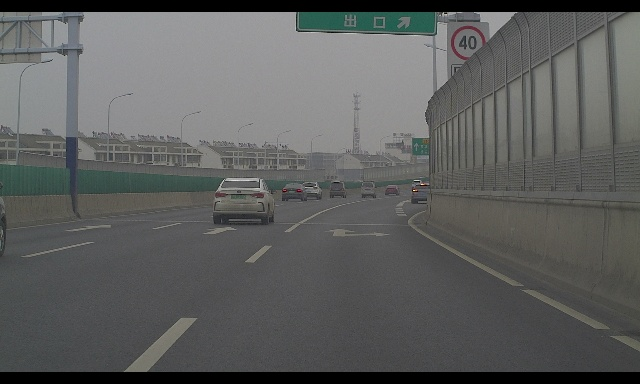car: (213, 177, 277, 224), (411, 183, 435, 204), (282, 183, 308, 201), (0, 181, 6, 257), (302, 182, 323, 200), (329, 181, 348, 198), (361, 180, 377, 198), (385, 185, 400, 195), (411, 180, 424, 190)
